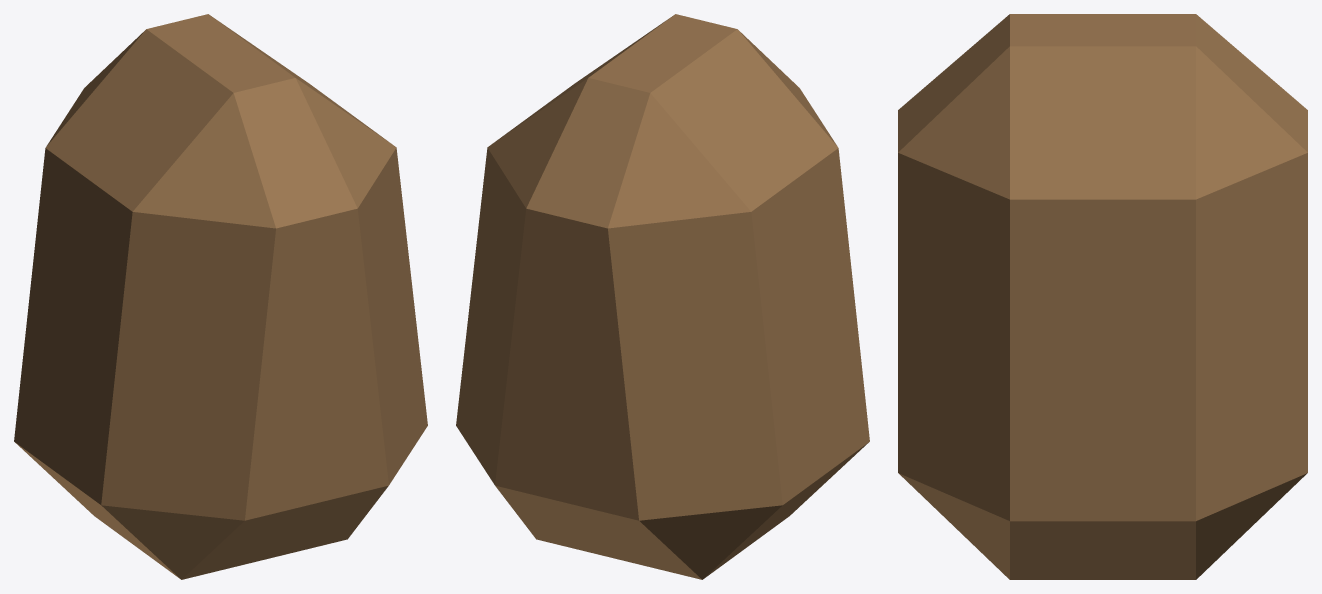
The model's file is mail_sack.glb.
3 views of the same model, side by side, from view 1: azimuth 30°, elevation 25°; view 2: azimuth 150°, elevation 25°; view 3: azimuth 270°, elevation 25° (orthographic). The views are drawn at different scales.
Parts seen in each view (by area): view 1: body; view 2: body; view 3: body.
Boxes of the visible parts, bbox=[...] form: body: bbox=[14, 14, 427, 579]; body: bbox=[456, 14, 869, 579]; body: bbox=[898, 14, 1307, 579].
Size of the model in its own units: 0.4326 by 0.6 by 0.44.
